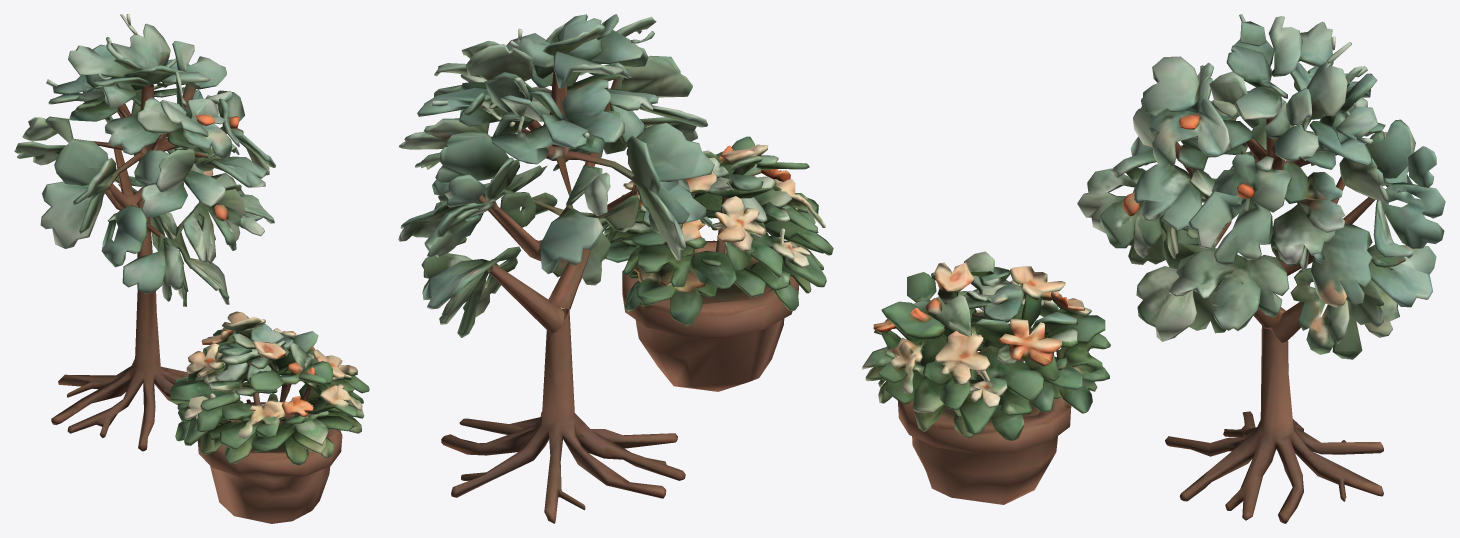
Rendered from foliage-kit.glb.
3 renders of one model, left to right at view 1: azimuth 30°, elevation 25°; view 2: azimuth 150°, elevation 25°; view 3: azimuth 270°, elevation 25°, orthographic. The views are drawn at different scales.
Visible parts, largest first — view 1: tripo_node_25814f77-806a-4286-b7f8-538eb0e85b8d; view 2: tripo_node_25814f77-806a-4286-b7f8-538eb0e85b8d; view 3: tripo_node_25814f77-806a-4286-b7f8-538eb0e85b8d.
Boxes of the visible parts, x1,y1,x2,y2 form: tripo_node_25814f77-806a-4286-b7f8-538eb0e85b8d: (14,14,369,523); tripo_node_25814f77-806a-4286-b7f8-538eb0e85b8d: (398,14,833,523); tripo_node_25814f77-806a-4286-b7f8-538eb0e85b8d: (862,14,1445,523).
Bounding box in the file's own units: 0.3474 × 0.6 × 0.7016.
1 material, 1 textured.
